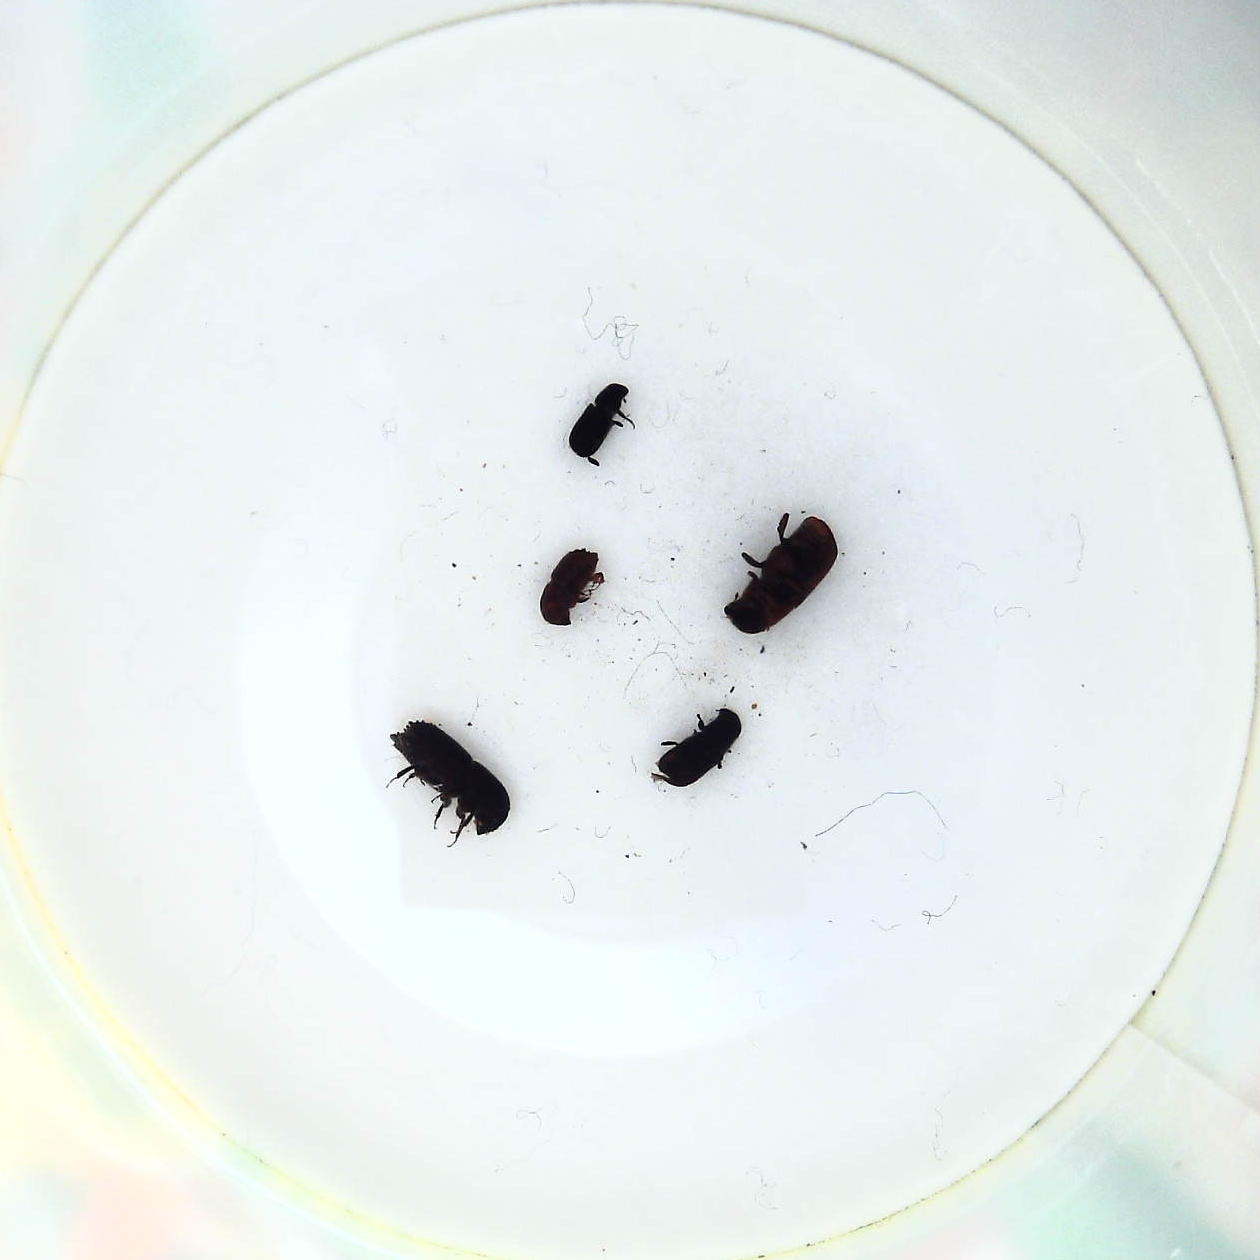Boerner: (383, 714, 512, 839)
Leconte: (726, 507, 848, 638)
armandi: (648, 708, 751, 790)
coleoptera: (568, 382, 639, 465)
linnaeus: (537, 541, 609, 631)
